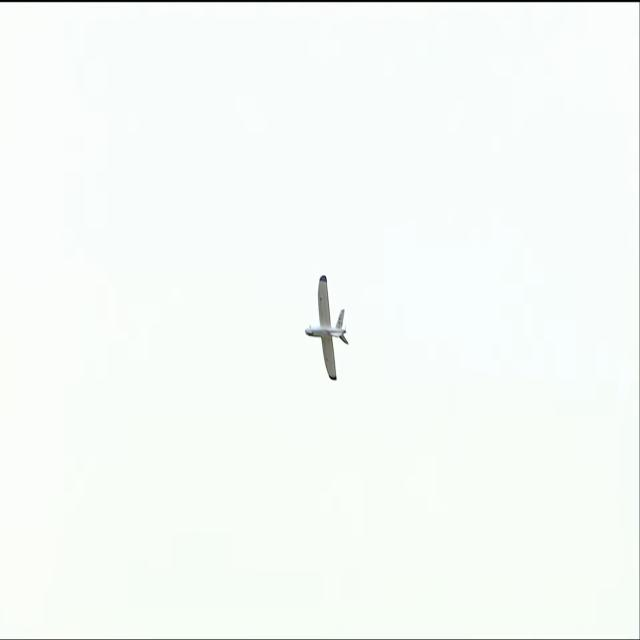iha: (299, 300, 342, 344)
